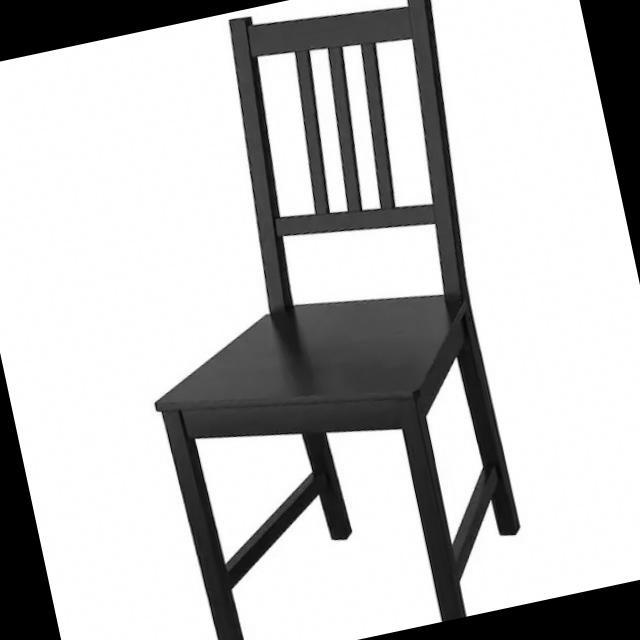chair: (74, 0, 561, 640)
